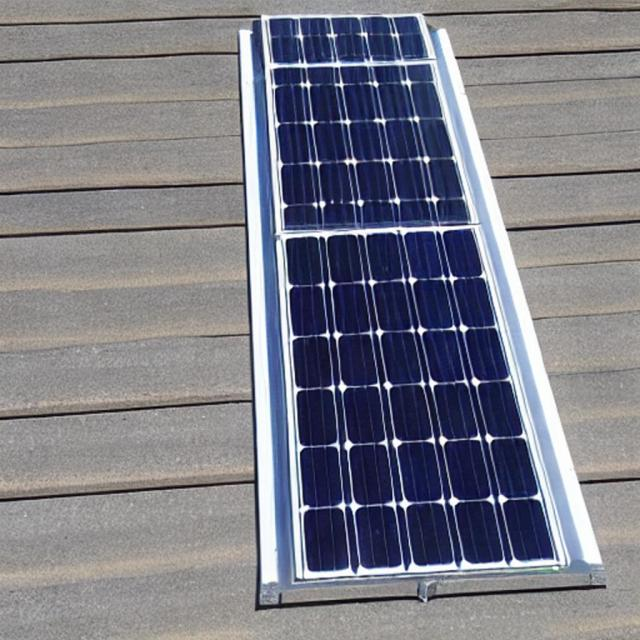no faulty: (283, 228, 562, 575), (267, 14, 472, 228)
